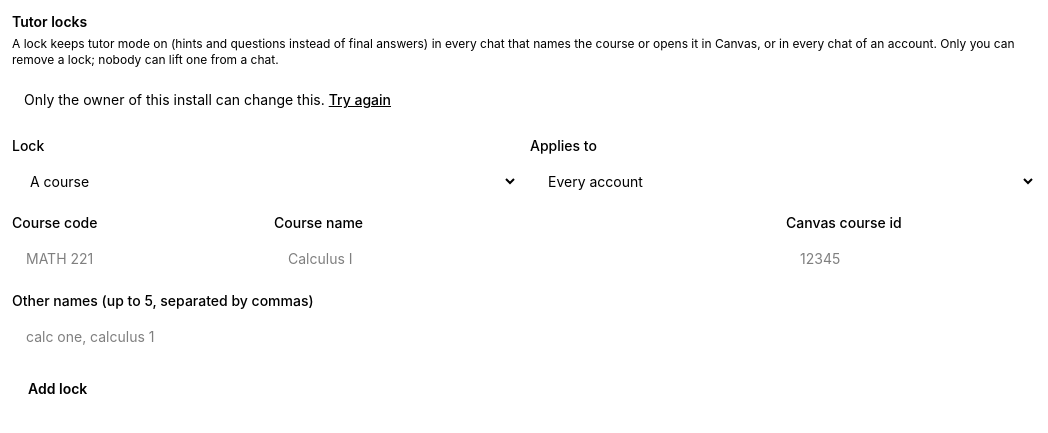
Test: TutorLocks › can retry a failed load
Click the button "Try again": (360, 100) x1=329 y1=90 x2=391 y2=110
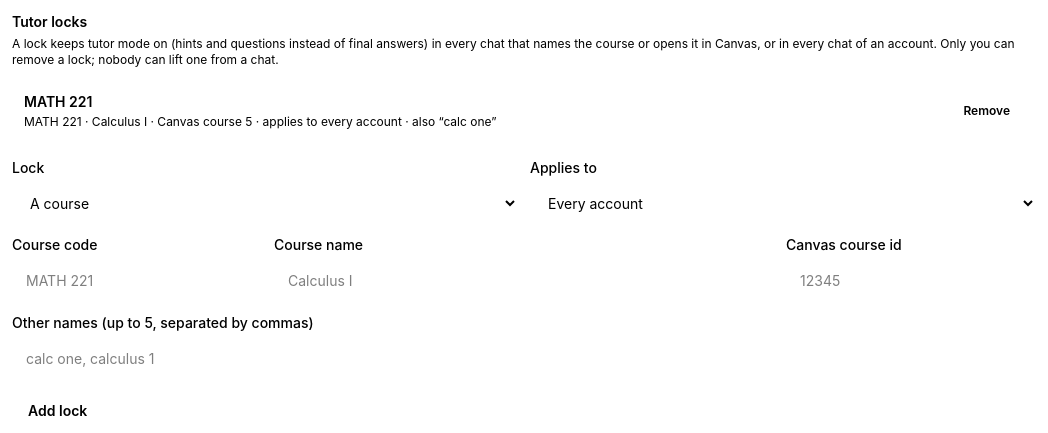
Expected: the text "MATH 221" is shown, x1=24 y1=93 x2=92 y2=110
